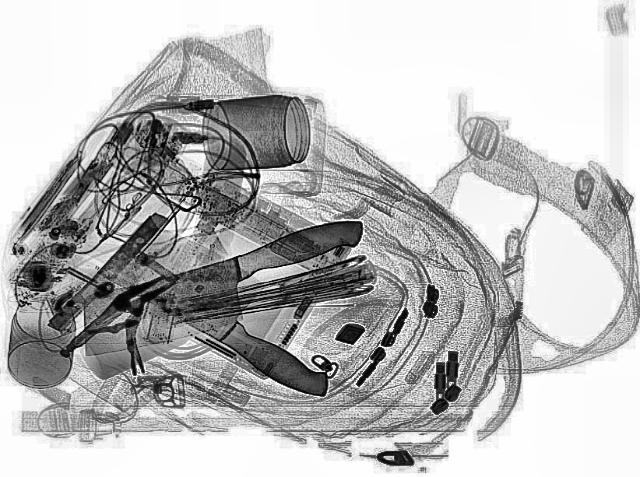Knife: (90, 219, 382, 404), (52, 214, 394, 360)
